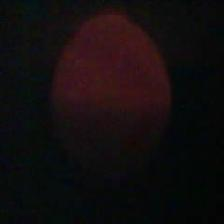fertile: (48, 11, 175, 186)
